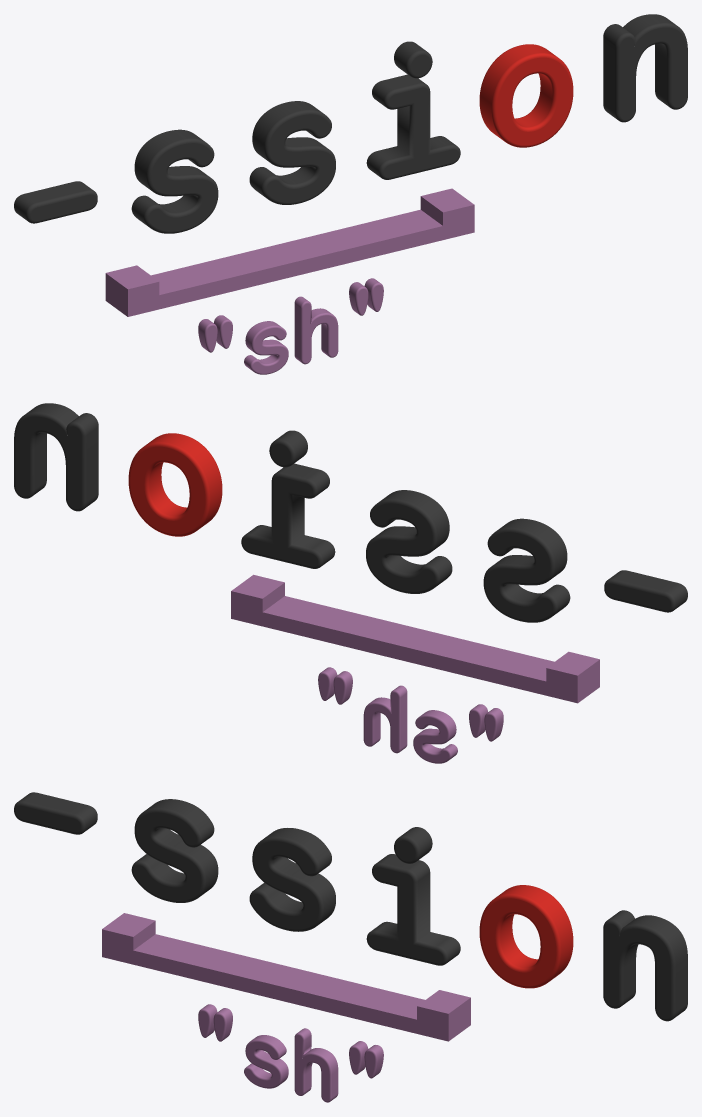
Rendered from -ssion.gltf.
The picture shows the model from 3 angles, top to bottom: view 1: azimuth 30°, elevation 25°; view 2: azimuth 150°, elevation 25°; view 3: azimuth 330°, elevation 25°; orthographic projection.
Parts seen in each view (by area): view 1: Text, Cube.001, Text.002, Text.001; view 2: Text, Cube.001, Text.002, Text.001; view 3: Text, Cube.001, Text.002, Text.001.
Part boxes in pixels (box(x1,y1,x2,y2)): Text: box(14, 14, 687, 233); Cube.001: box(105, 188, 474, 316); Text.002: box(479, 44, 573, 147); Text.001: box(198, 278, 383, 374); Text: box(14, 403, 687, 622); Cube.001: box(231, 574, 599, 703); Text.002: box(128, 433, 222, 536); Text.001: box(318, 667, 503, 763); Text: box(14, 792, 687, 1021); Cube.001: box(102, 913, 470, 1041); Text.002: box(479, 885, 573, 988); Text.001: box(198, 1004, 383, 1102).
Bounding box in the file's own units: 3.26 × 1.36 × 0.1906.
